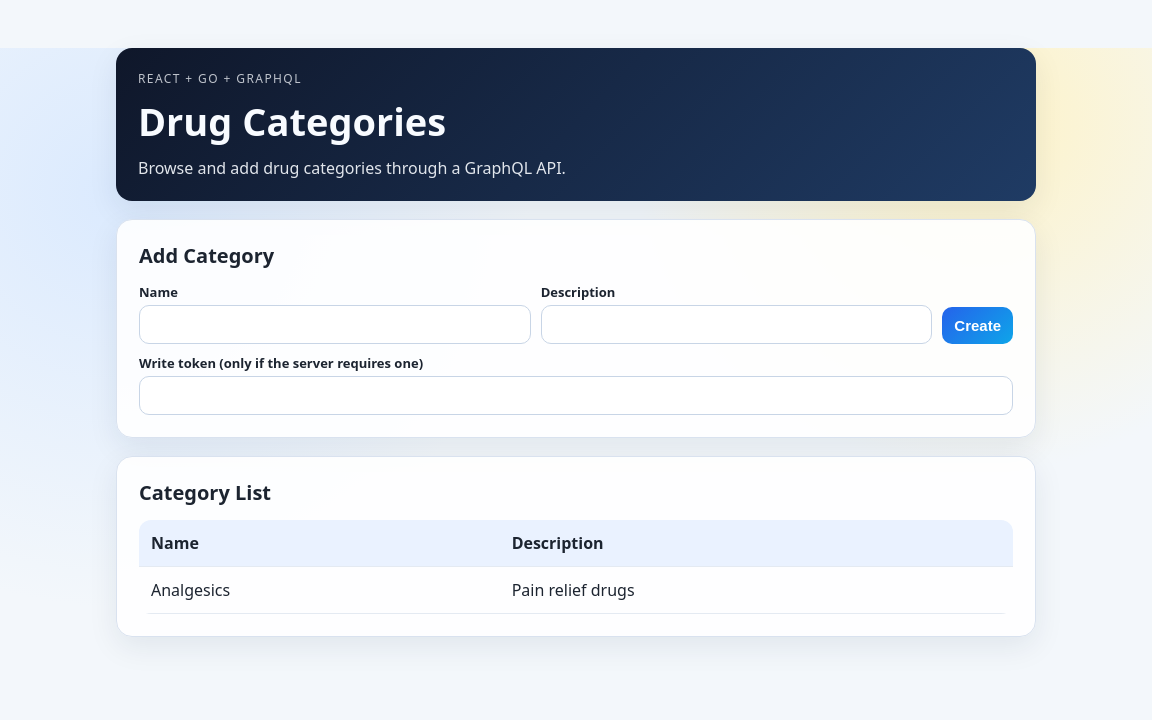
Scenario: App › creates a category and clears the form but keeps the token
Expected: the text "Analgesics" is shown, [139, 566, 500, 614]
Type "Antivirals" into the field labelled "Name" at coordinates (335, 324), box [139, 305, 531, 344]
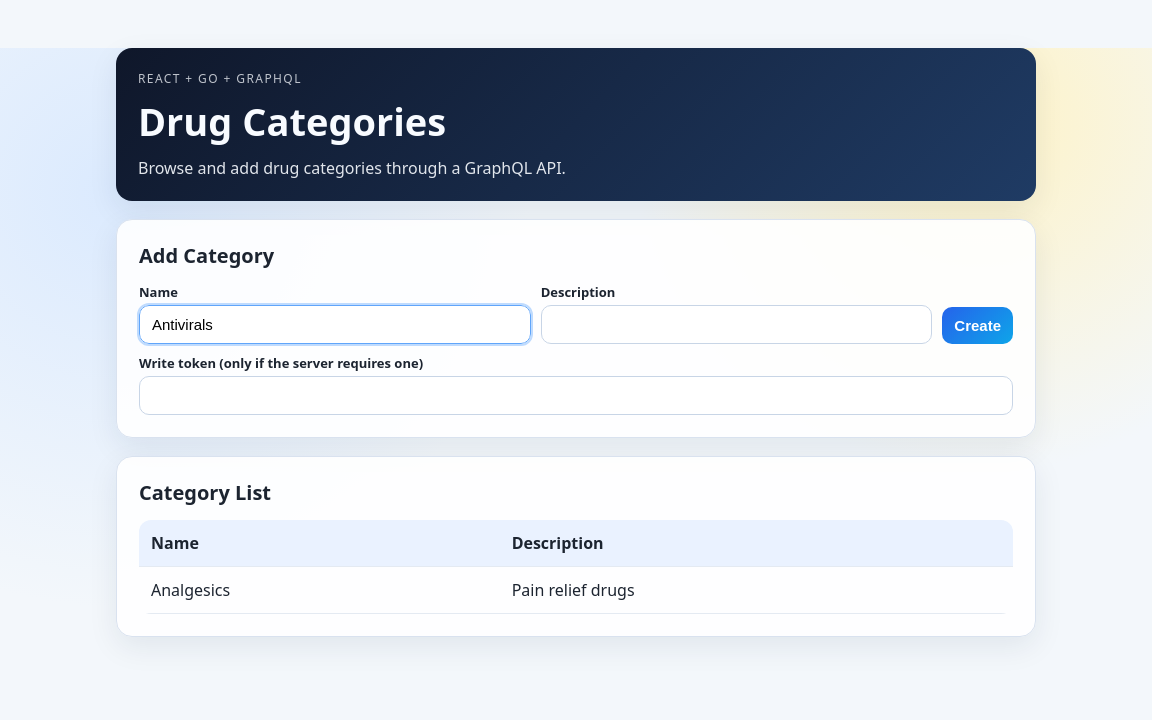
Type "Viral" into the field labelled "Description" at coordinates (736, 324), box [541, 305, 932, 344]
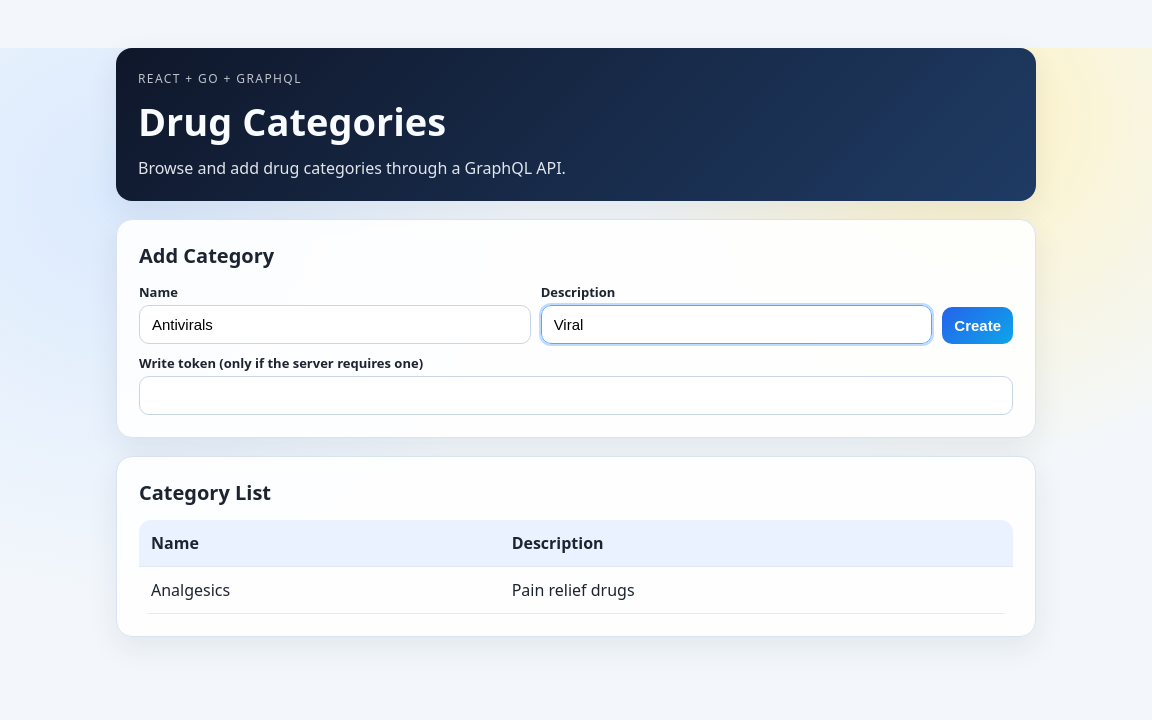
Type "test-token" into the password field labelled "Write token (only if the server requires one)" at coordinates (576, 396), box [139, 376, 1013, 415]
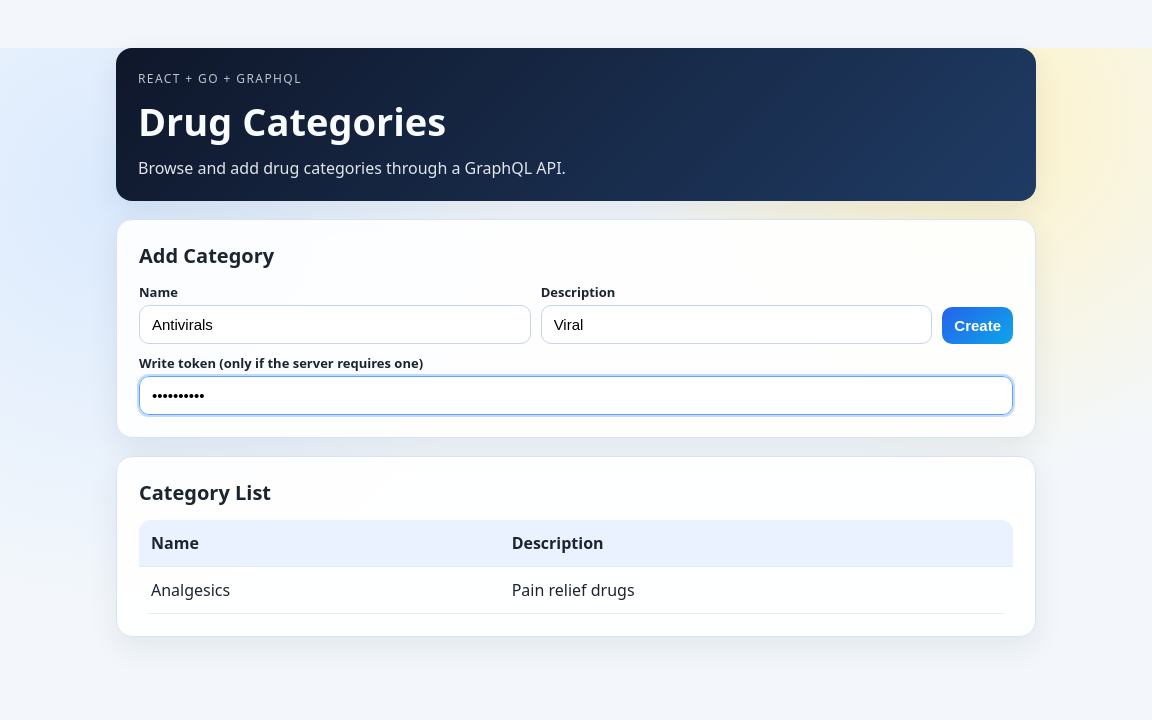
Click the button "Create" at coordinates (978, 326), box [942, 307, 1013, 344]
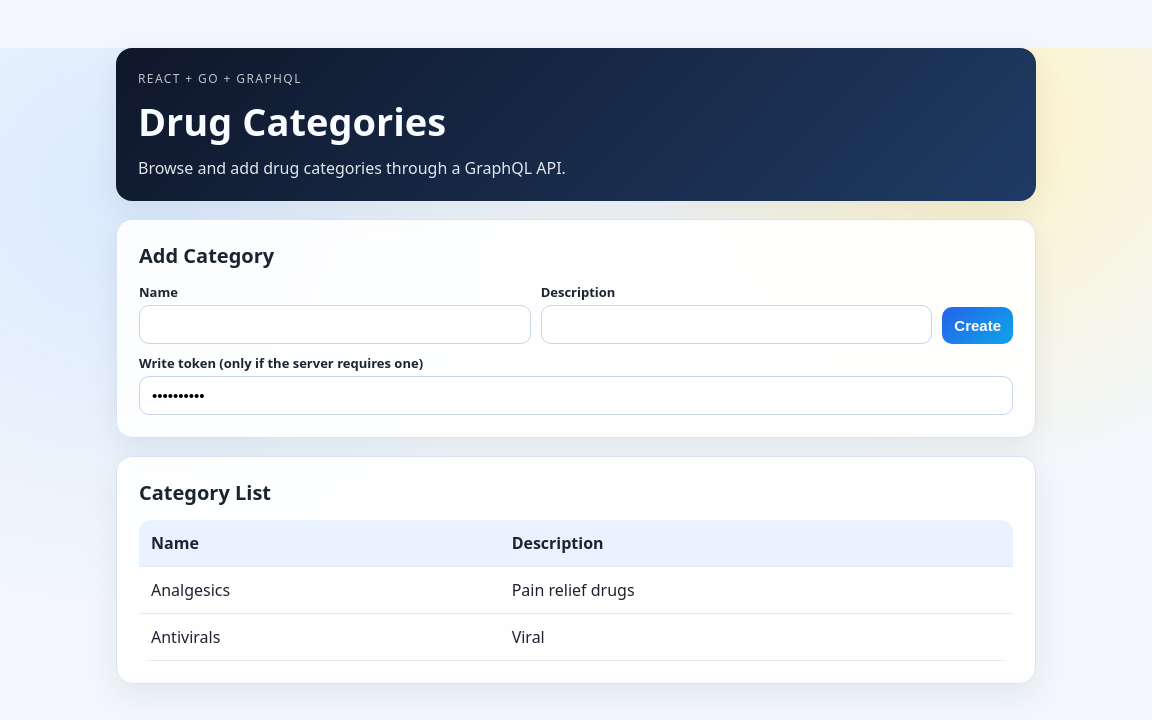
Result: the text "Antivirals" is shown at [139, 614, 500, 660]
Result: the field labelled "Name" is empty at [139, 305, 531, 344]
